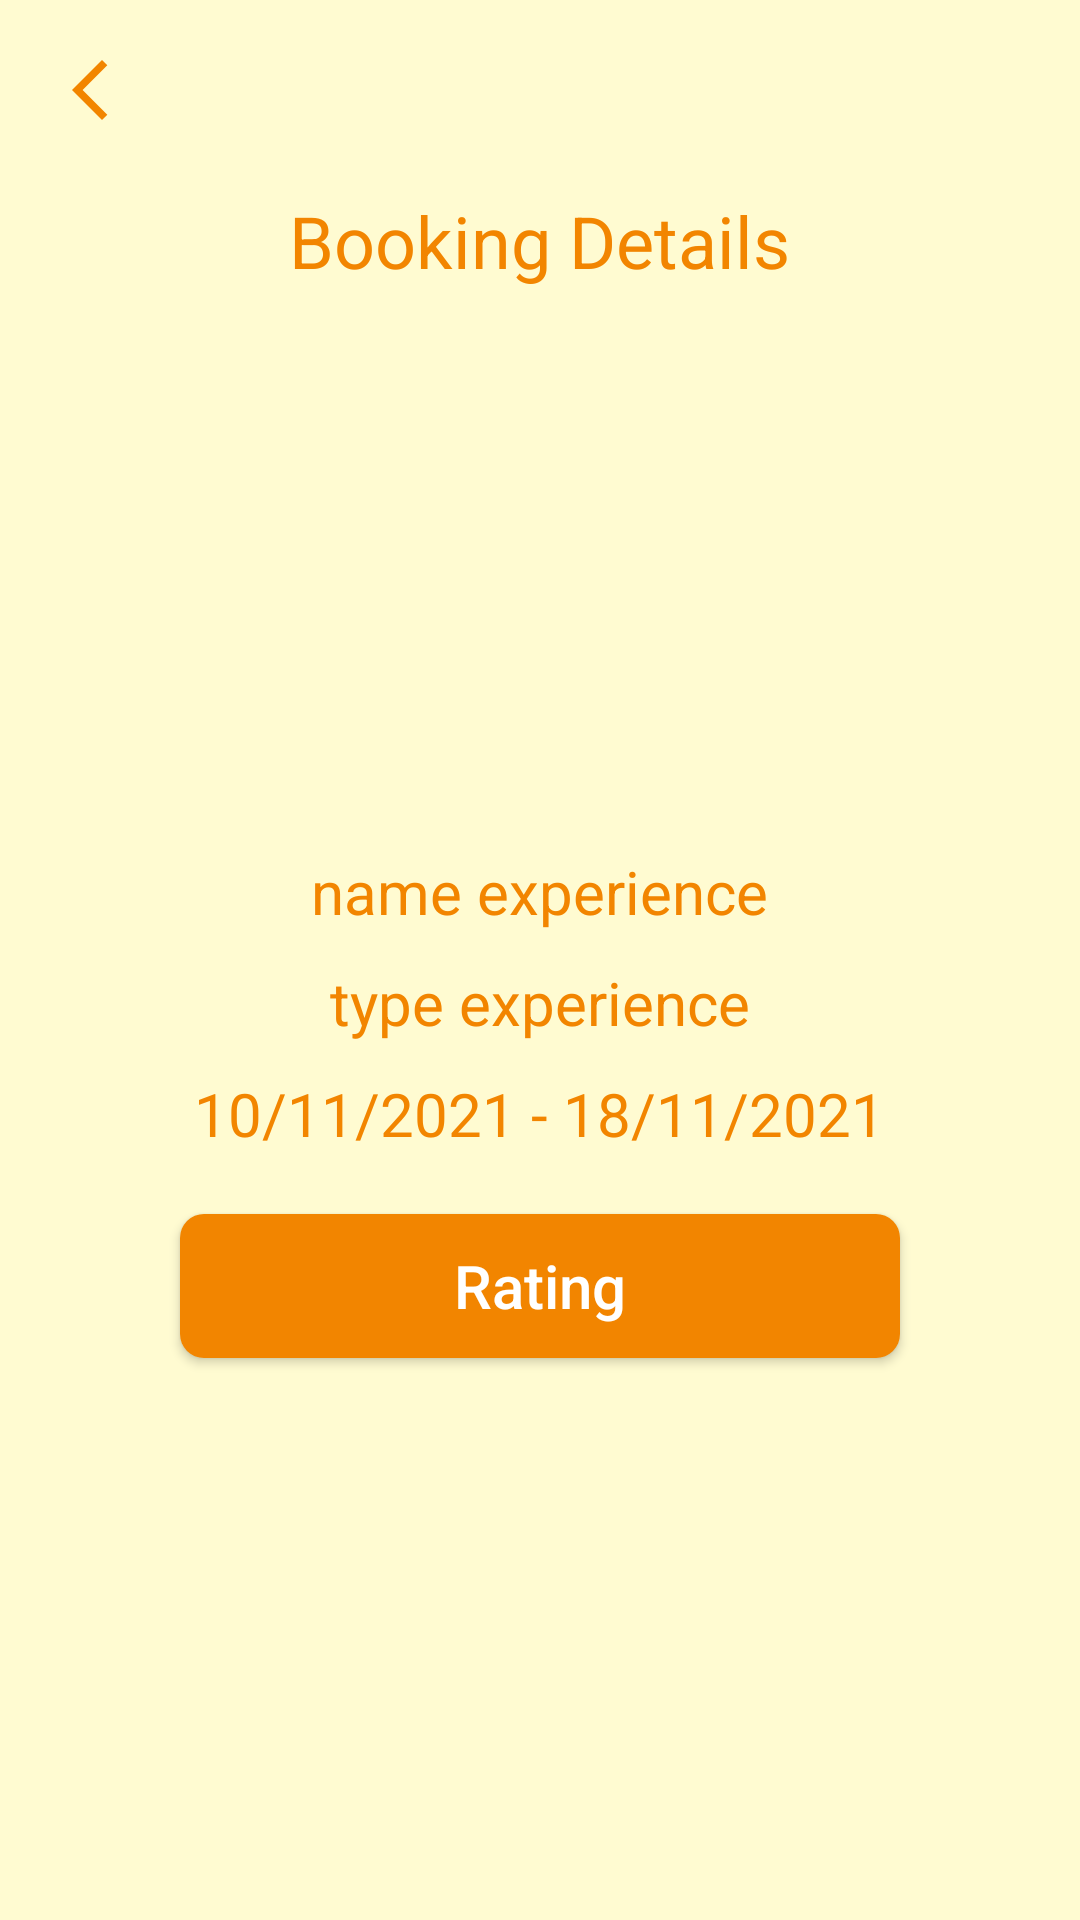

Icon bounding boxes for this 1080px x 1920px phone screenshot, format [x1=x1, y1=y1, x2=x2, y2=y2]:
back: [x1=72, y1=60, x2=107, y2=120]
